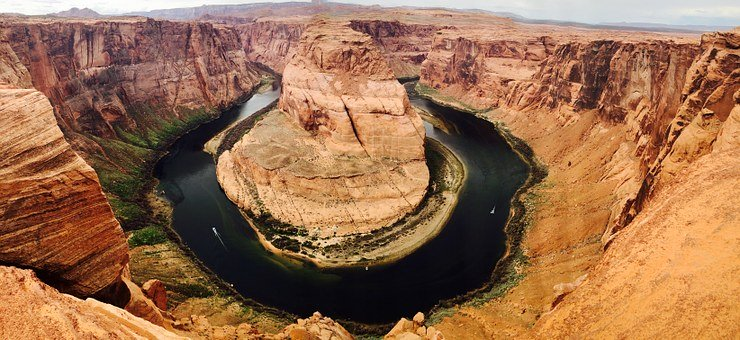mountain: (1, 11, 739, 336)
